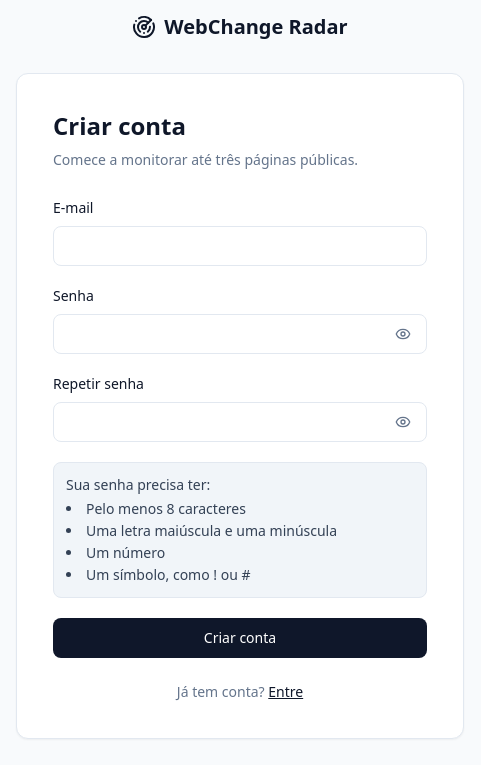
password forms › requires matching passwords before requesting registration
Type "user@example.test" into the field labelled "E-mail".
click(240, 246); type("user@example.test")  # box [53, 226, 427, 266]
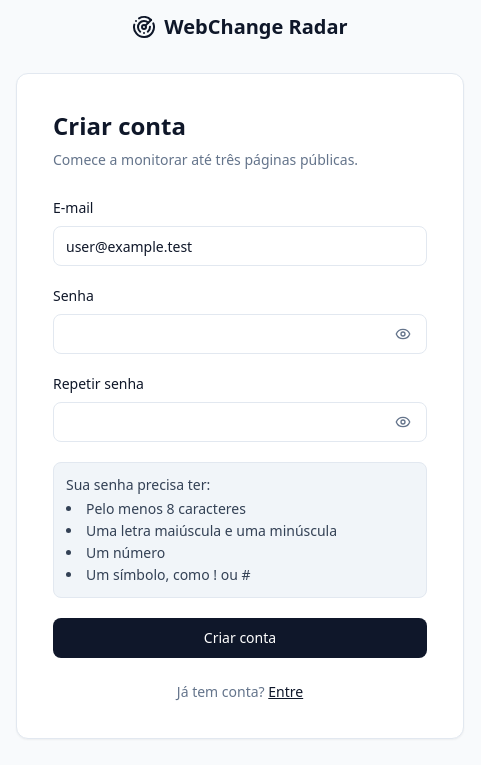
Type "Abcdef1!" into the password field labelled "Senha".
click(240, 334); type("Abcdef1!")  # box [53, 314, 427, 354]
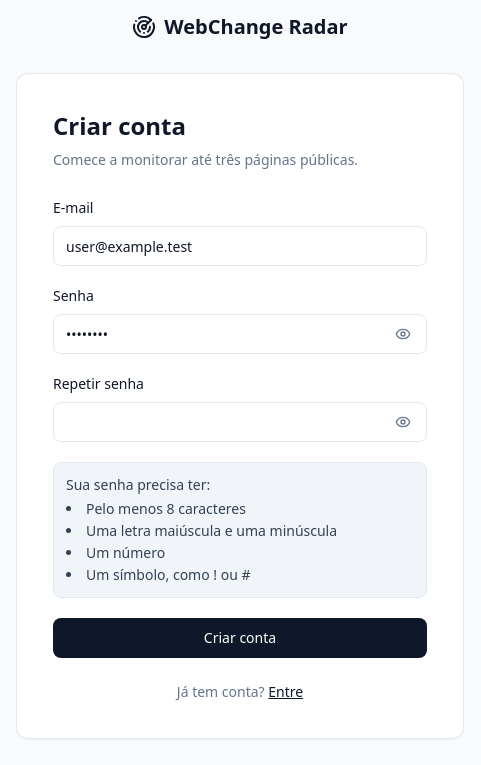
Type "Different1!" into the password field labelled "Repetir senha".
click(240, 422); type("Different1!")  # box [53, 402, 427, 442]
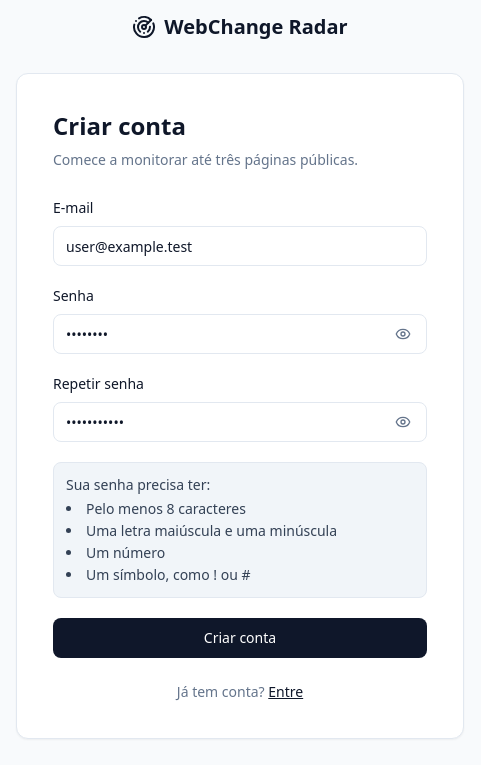
Submit the form named "Criar conta", box [53, 198, 427, 658]
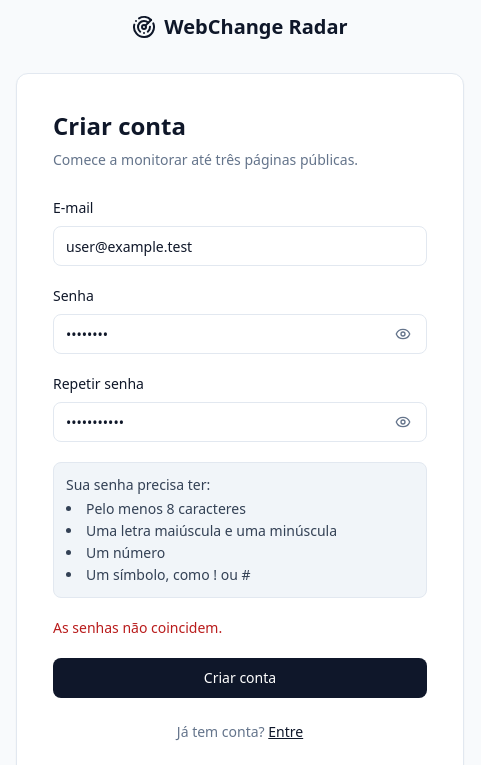
Expected: the message reads "As senhas não coincidem.", [53, 618, 222, 637]
